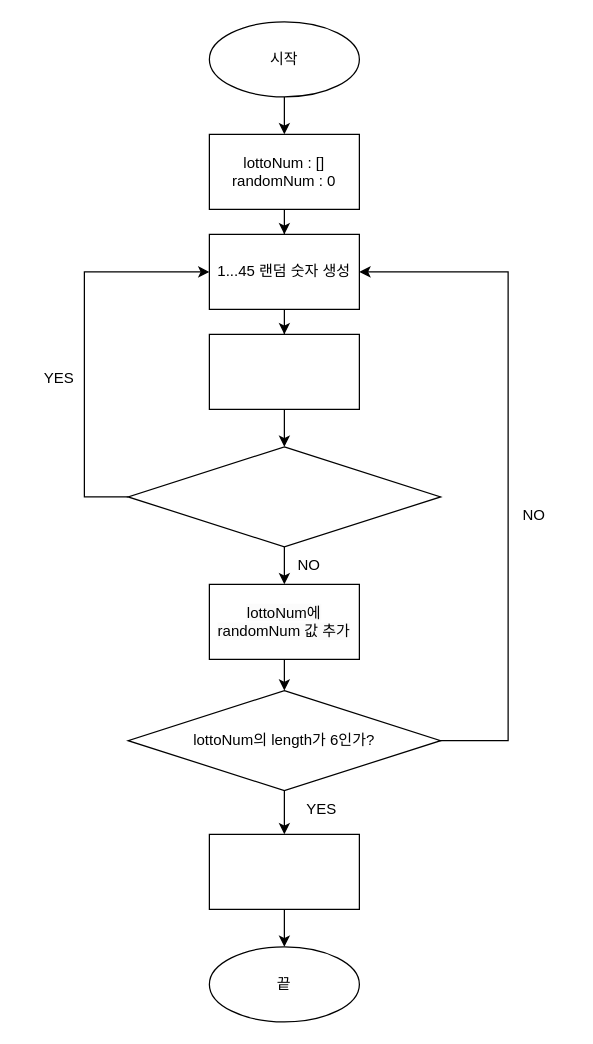
Image size: 593x1044. Some labels were removed from this diagram. The centre of each missing label's shape, as x and y in pixels:
"lottoNum 리턴" belongs at pixel 283 871.
"lottoNum에 randomNum과 동일한 값이 있는가?" belongs at pixel 284 496.
"radomNum에 할당" belongs at pixel 283 371.
